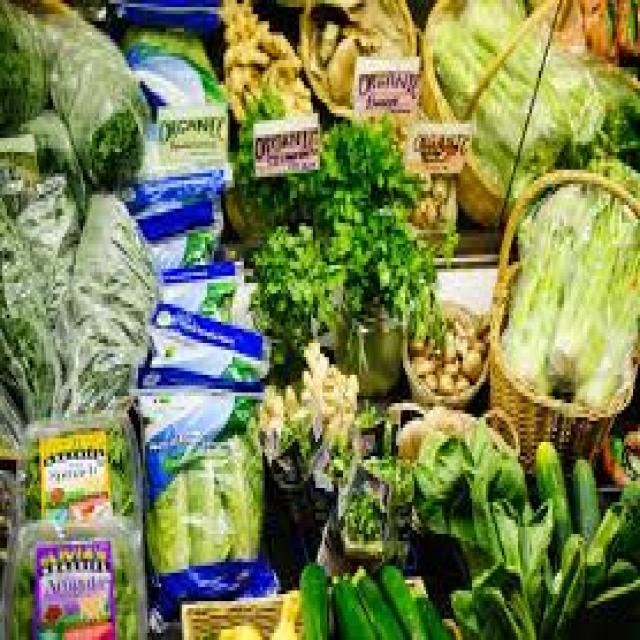organic waste: (412, 428, 550, 636), (433, 18, 564, 184), (460, 0, 601, 149), (546, 152, 638, 378), (51, 191, 147, 407), (256, 336, 354, 470), (246, 216, 336, 357), (568, 226, 638, 400), (320, 110, 417, 222), (322, 209, 426, 311), (499, 202, 548, 392), (396, 400, 509, 460), (0, 286, 51, 418), (214, 428, 258, 559), (80, 92, 142, 184), (584, 53, 638, 152), (536, 530, 585, 636), (184, 456, 230, 559), (534, 435, 569, 562), (0, 21, 41, 127), (143, 474, 186, 566), (587, 485, 638, 555), (37, 138, 85, 212), (376, 562, 422, 637), (244, 170, 318, 216), (126, 25, 210, 60), (354, 573, 400, 636), (568, 453, 598, 541), (329, 580, 371, 636), (297, 558, 327, 636), (368, 449, 408, 506), (576, 0, 614, 57), (108, 544, 131, 636), (108, 424, 131, 513), (346, 488, 384, 541), (0, 223, 30, 290), (327, 35, 357, 99), (256, 28, 299, 67), (14, 555, 32, 637), (324, 361, 354, 410), (279, 71, 313, 113), (237, 81, 281, 113), (612, 0, 638, 50), (235, 117, 251, 191), (23, 442, 39, 516), (256, 382, 278, 435), (416, 598, 446, 636), (585, 537, 603, 594), (221, 42, 267, 64), (343, 21, 382, 46), (301, 339, 327, 375), (228, 3, 255, 36), (608, 551, 638, 580), (219, 616, 260, 636), (265, 53, 297, 78), (315, 18, 334, 60), (221, 64, 258, 81), (281, 583, 297, 619), (281, 378, 297, 414), (460, 346, 479, 375), (414, 194, 435, 220), (218, 0, 248, 18), (297, 368, 315, 396), (226, 81, 240, 117), (270, 616, 292, 636), (412, 350, 433, 368), (442, 332, 454, 361), (223, 22, 237, 42), (438, 371, 452, 389), (433, 177, 444, 198), (454, 371, 465, 389), (442, 357, 456, 371), (419, 372, 433, 386), (465, 322, 474, 343), (454, 332, 465, 347), (472, 336, 483, 350), (256, 14, 267, 28), (453, 315, 462, 332), (408, 336, 422, 346)
